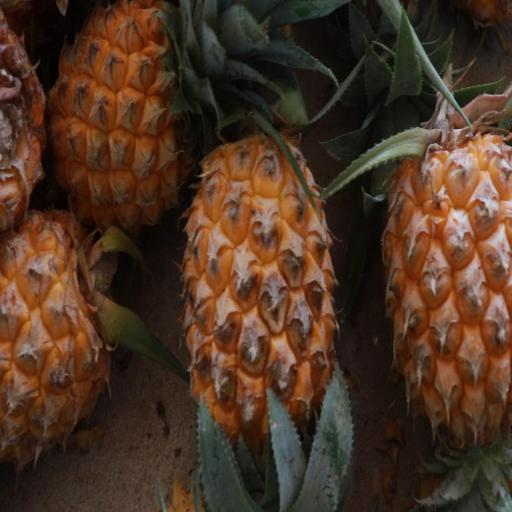Pineapple - v8 v1: (176, 122, 345, 512), (378, 100, 512, 464), (35, 0, 216, 241), (0, 193, 124, 472)
